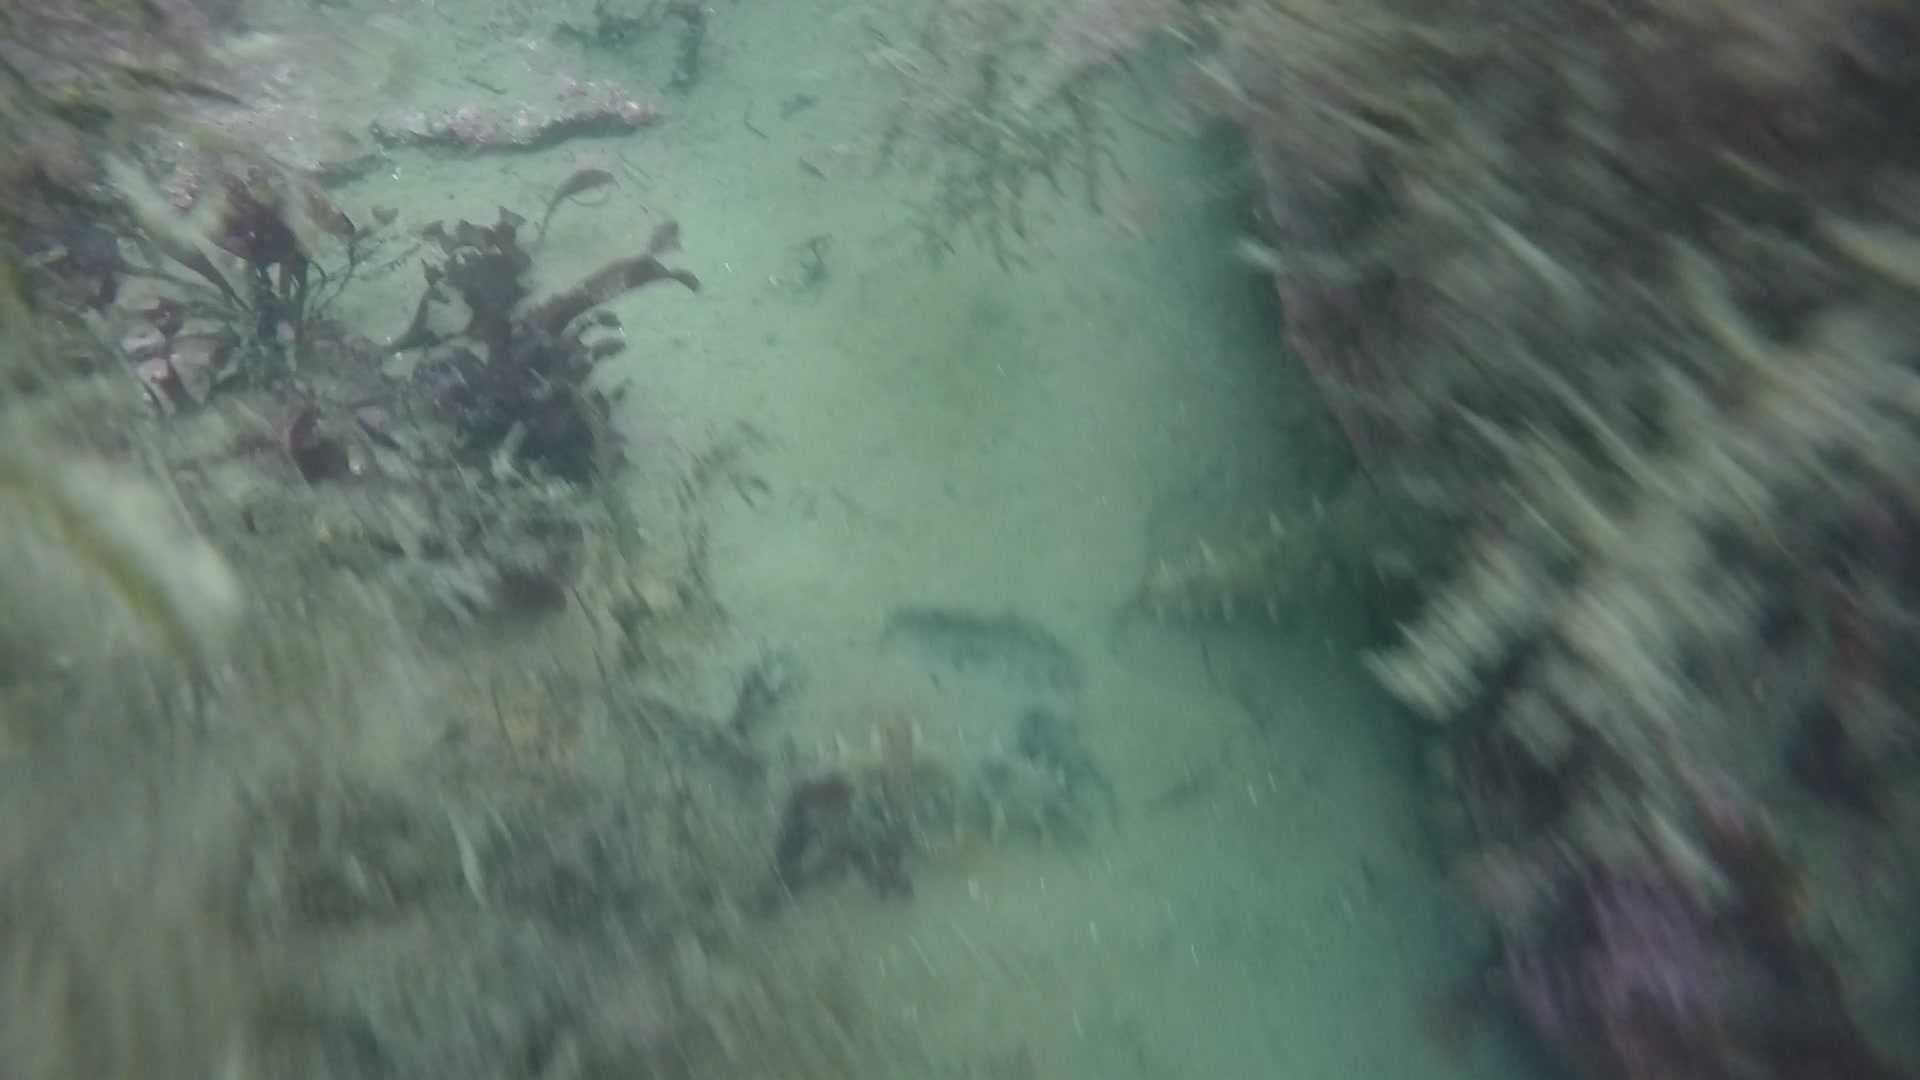holothurian: (1130, 468, 1423, 618), (804, 727, 1084, 844)
